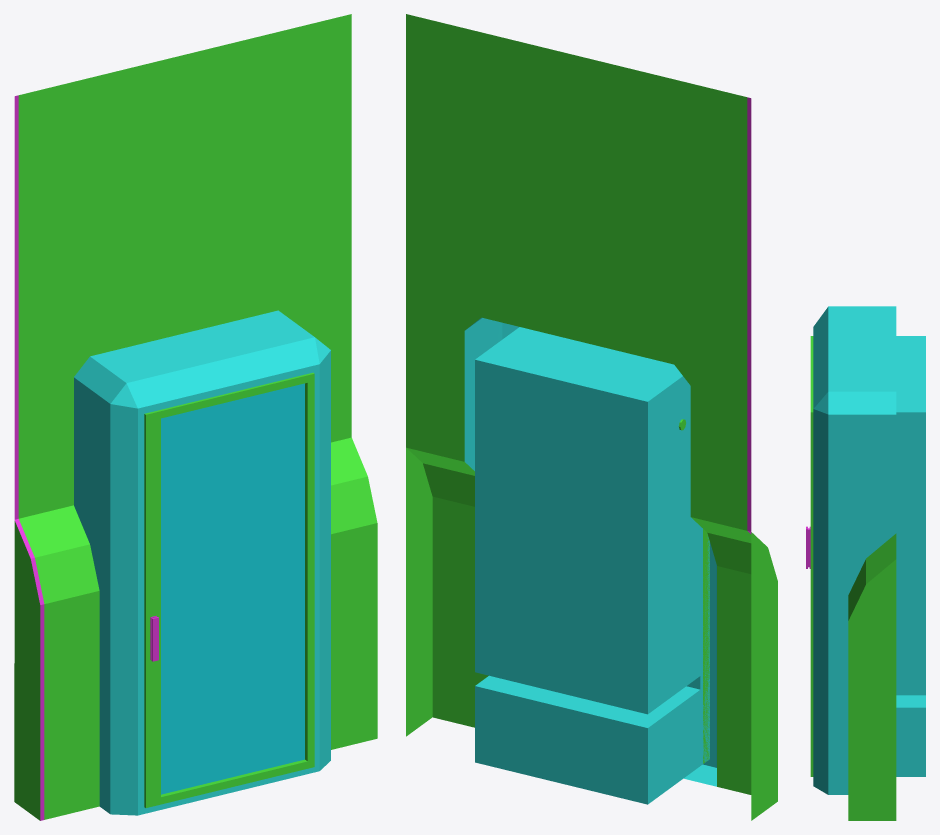
File: Wall_43_C_Straight.fbx
The picture shows the model from 3 angles, left to right: view 1: azimuth 30°, elevation 25°; view 2: azimuth 150°, elevation 25°; view 3: azimuth 270°, elevation 25°; orthographic projection. The views are drawn at different scales.
Visible parts, largest first — view 1: Wall_43_C_Straight, Wall_43_C_Straight_Door; view 2: Wall_43_C_Straight, Wall_43_C_Straight_Door; view 3: Wall_43_C_Straight, Wall_43_C_Straight_Door.
Part boxes in pixels (box(x1,y1,x2,y2)): Wall_43_C_Straight: box(14, 14, 377, 820); Wall_43_C_Straight_Door: box(144, 372, 314, 807); Wall_43_C_Straight: box(406, 14, 777, 820); Wall_43_C_Straight_Door: box(703, 529, 709, 763); Wall_43_C_Straight: box(813, 306, 925, 820); Wall_43_C_Straight_Door: box(806, 336, 813, 776).
Bounding box in the file's own units: 229 × 457 × 75.78.
